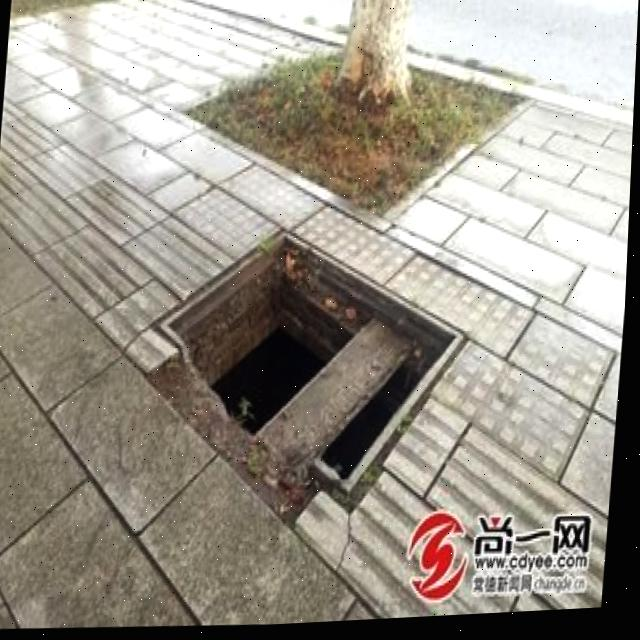manhole: (152, 210, 479, 524)
